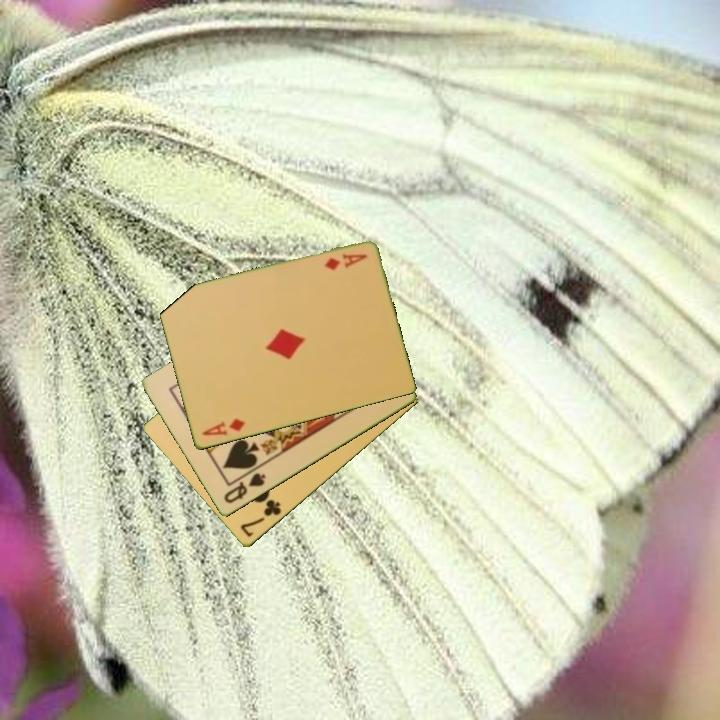7c: (237, 496, 284, 540)
Ad: (198, 415, 248, 439), (321, 250, 370, 274)
Qs: (220, 470, 269, 507)
